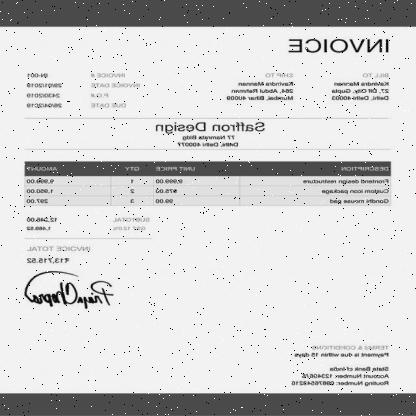Paragraph: (288, 342, 392, 390), (24, 70, 144, 110), (152, 120, 268, 148), (284, 34, 394, 58), (23, 214, 153, 234), (223, 69, 297, 103), (328, 69, 392, 103), (23, 243, 93, 266)
Table: (25, 160, 391, 206)
